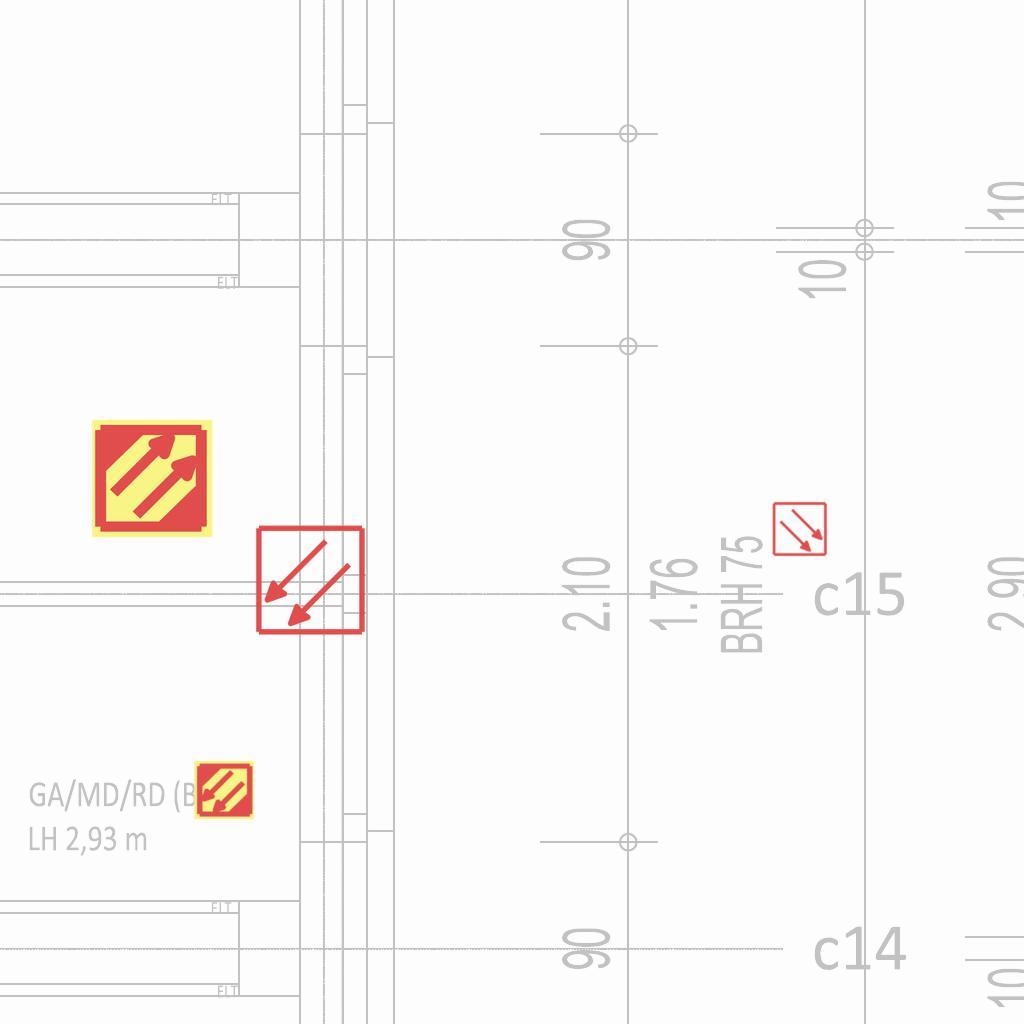ASR_Ansaugrauchmelder: (90, 416, 215, 541), (193, 759, 255, 821)
RMO_Rauchmelder_optischer: (254, 524, 367, 637), (772, 501, 828, 557)
